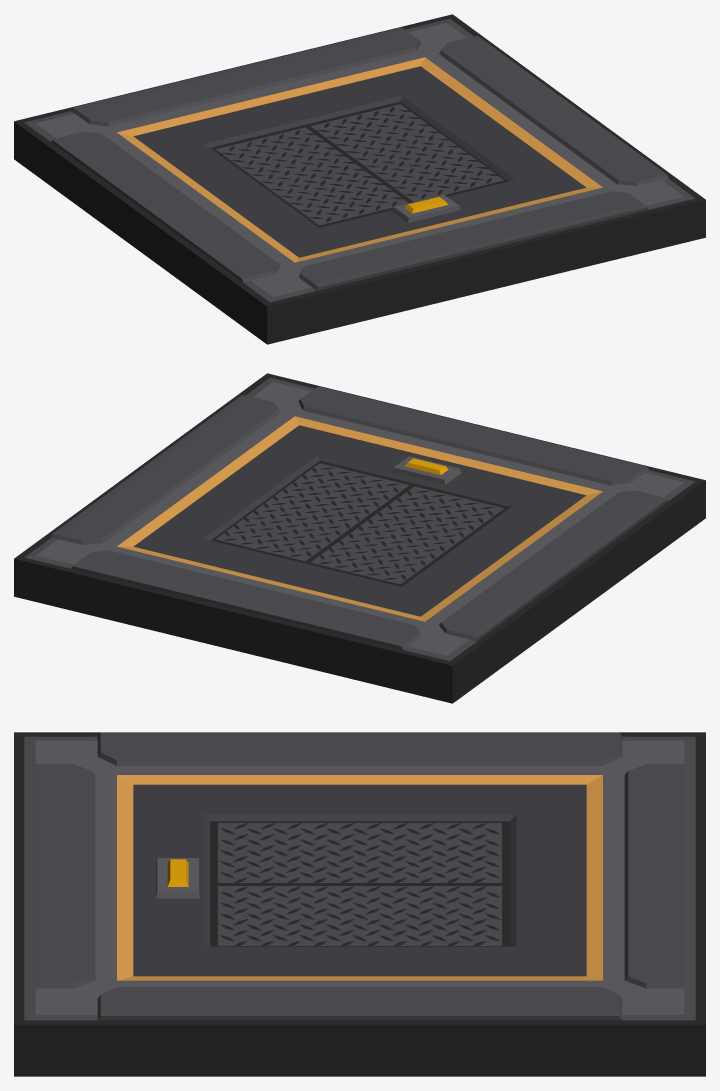
File: SM_Bld_Floor_Small_01.glb
3 views of the same model, one above another, from view 1: azimuth 30°, elevation 25°; view 2: azimuth 150°, elevation 25°; view 3: azimuth 270°, elevation 25° (orthographic). The views are drawn at different scales.
Visible parts, largest first — view 1: SM_Bld_Floor_Small_01; view 2: SM_Bld_Floor_Small_01; view 3: SM_Bld_Floor_Small_01.
Part boxes in pixels (box(x1,y1,x2,y2)): SM_Bld_Floor_Small_01: box(14, 14, 705, 344); SM_Bld_Floor_Small_01: box(14, 373, 705, 703); SM_Bld_Floor_Small_01: box(14, 732, 705, 1076).
Bounding box in the file's own units: 2.5 × 0.242 × 2.5.
1 material, 1 textured.
